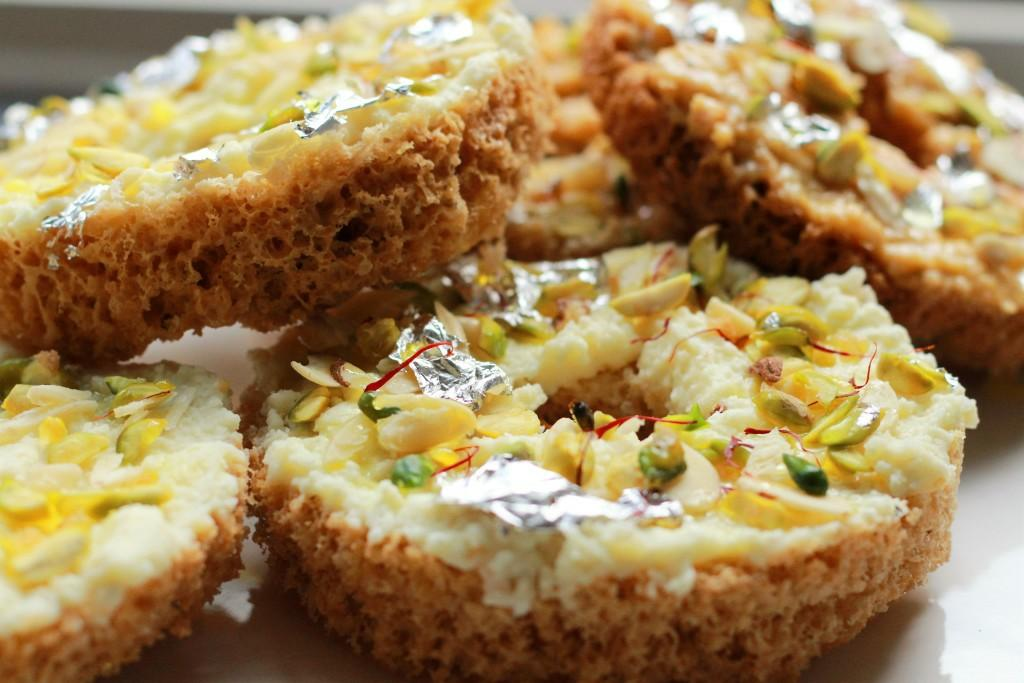Ghevar: (249, 235, 983, 683), (3, 0, 555, 370), (576, 0, 1024, 382), (0, 358, 268, 683)
